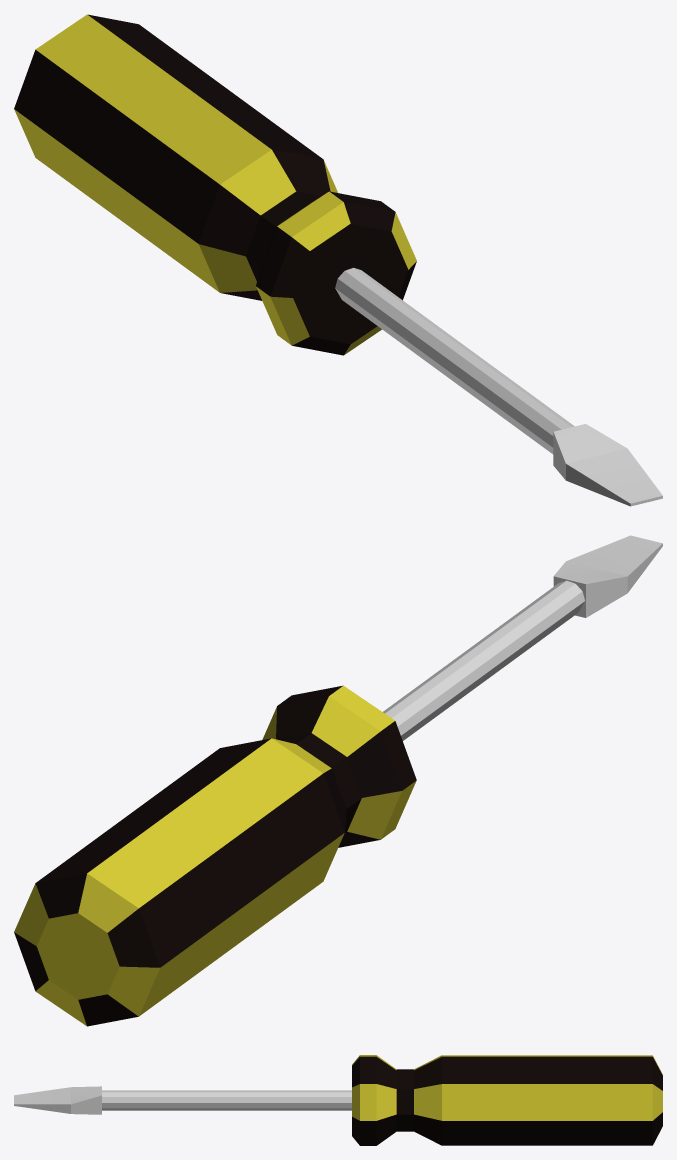
The model's file is screw.fbx.
3 views of the same model, one above another, from view 1: azimuth 30°, elevation 25°; view 2: azimuth 150°, elevation 25°; view 3: azimuth 270°, elevation 25° (orthographic). The views are drawn at different scales.
Visible parts, largest first — view 1: Screwdriver_Single.002, Screwdriver_Single.001; view 2: Screwdriver_Single.002, Screwdriver_Single.001; view 3: Screwdriver_Single.002, Screwdriver_Single.001.
Boxes of the visible parts, x1=… form: Screwdriver_Single.002: x1=14, y1=14, x2=416, y2=355; Screwdriver_Single.001: x1=335, y1=267, x2=662, y2=506; Screwdriver_Single.002: x1=14, y1=685, x2=416, y2=1026; Screwdriver_Single.001: x1=383, y1=535, x2=662, y2=740; Screwdriver_Single.002: x1=352, y1=1055, x2=662, y2=1145; Screwdriver_Single.001: x1=14, y1=1086, x2=351, y2=1114.
Size of the model in its own units: 7.03 by 7.03 by 47.21.
